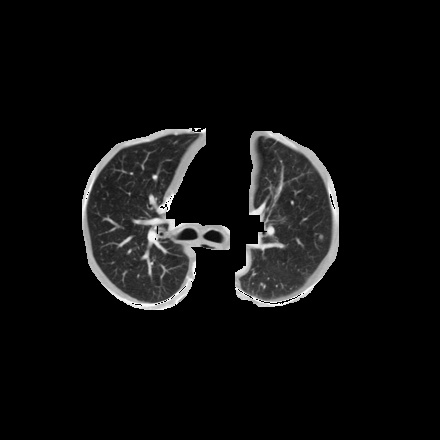PN: (319, 234, 323, 238)
